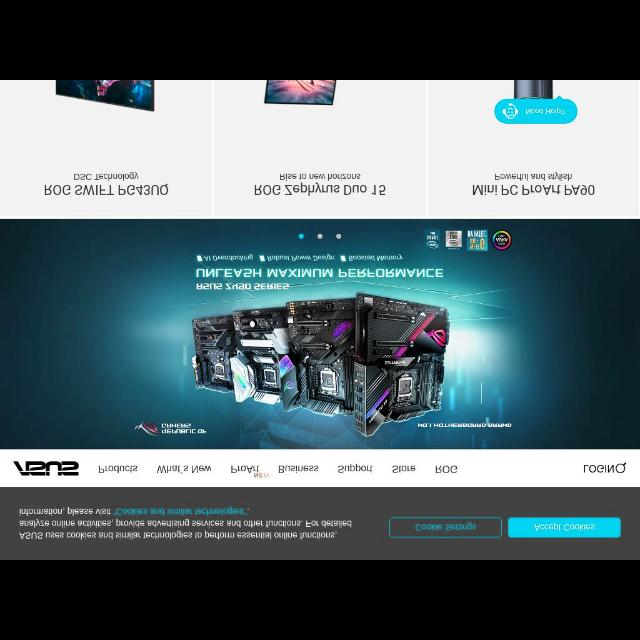icon: (502, 104, 518, 118), (616, 462, 628, 473)
image: (1, 219, 640, 449), (14, 462, 80, 476)
pageindicator: (298, 232, 342, 240)
panel: (1, 486, 640, 560)
text: (20, 506, 352, 540), (255, 182, 387, 195), (45, 183, 169, 195), (473, 184, 595, 196), (495, 172, 573, 182), (74, 171, 140, 181), (280, 173, 362, 181), (415, 522, 477, 532), (534, 522, 596, 532), (231, 464, 271, 478), (156, 465, 212, 473), (100, 464, 138, 474), (338, 463, 374, 473), (278, 465, 320, 473), (526, 106, 566, 114), (584, 464, 614, 474), (436, 464, 458, 474), (392, 465, 416, 473)
textbutton: (389, 516, 503, 538), (508, 516, 622, 538), (495, 96, 577, 124)
toolbar: (1, 450, 640, 486)
